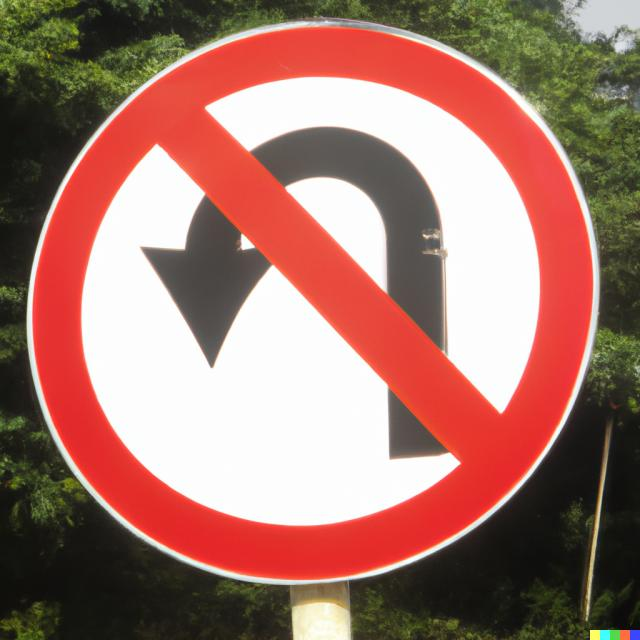no u turn: (23, 15, 604, 586)
